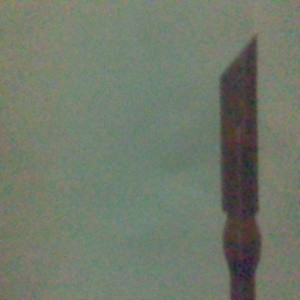cutter: (216, 32, 264, 300)
